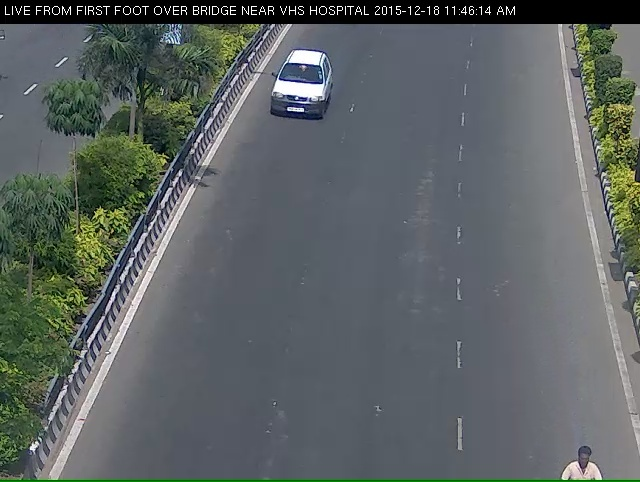Car: (248, 49, 351, 149)
